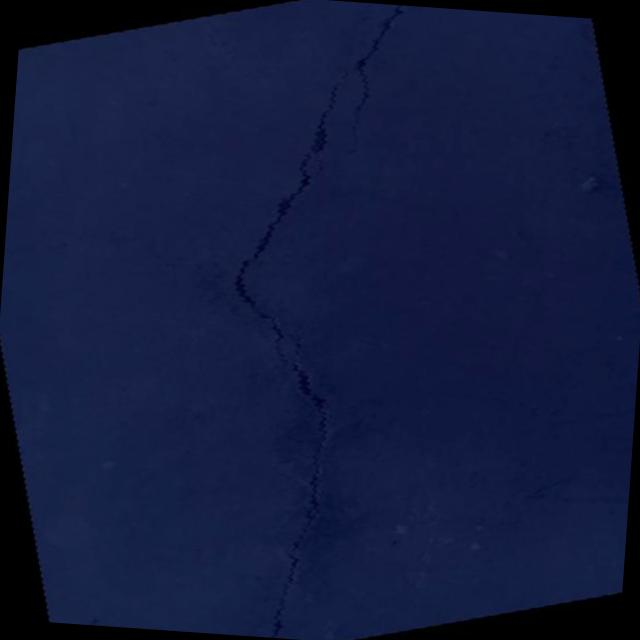crack: (125, 52, 486, 640), (306, 0, 455, 163), (0, 199, 199, 319)
